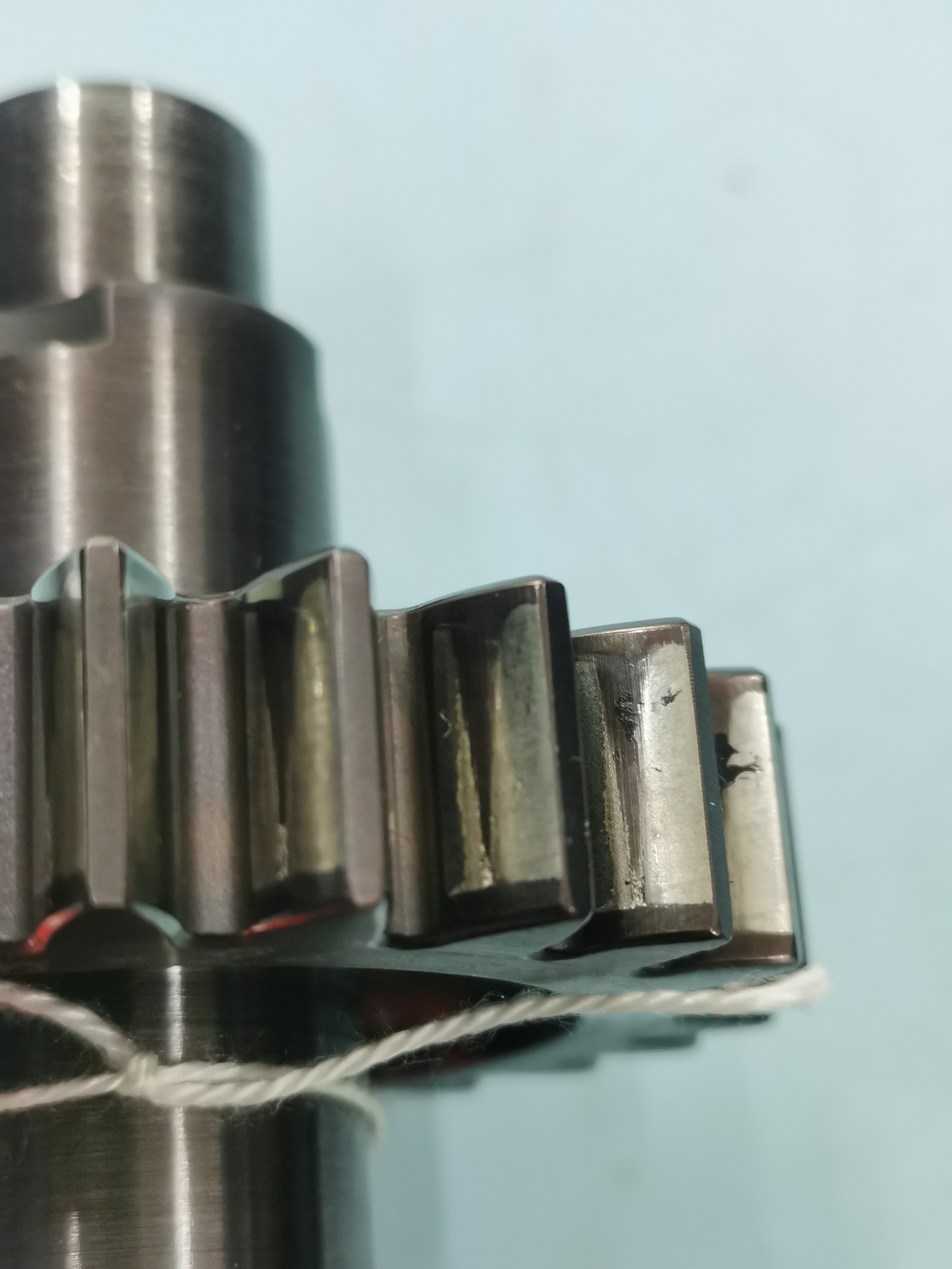Abrasion: (206, 535, 358, 941), (418, 569, 564, 940), (573, 612, 728, 947)
